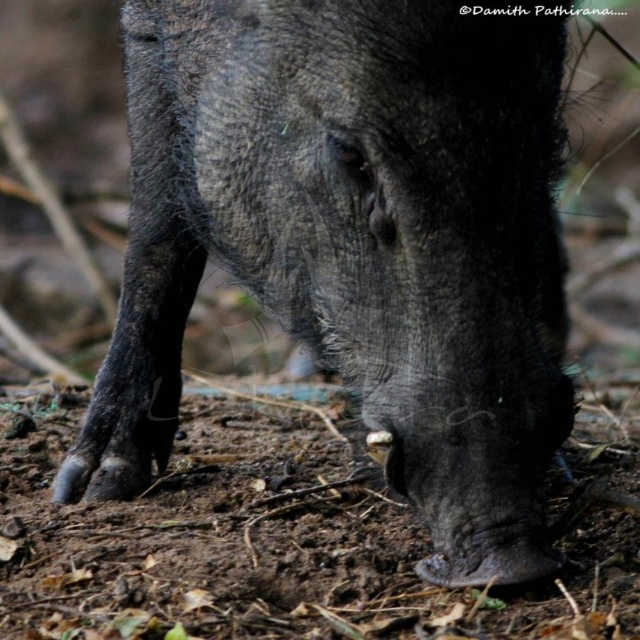Pig: (48, 0, 616, 589)
